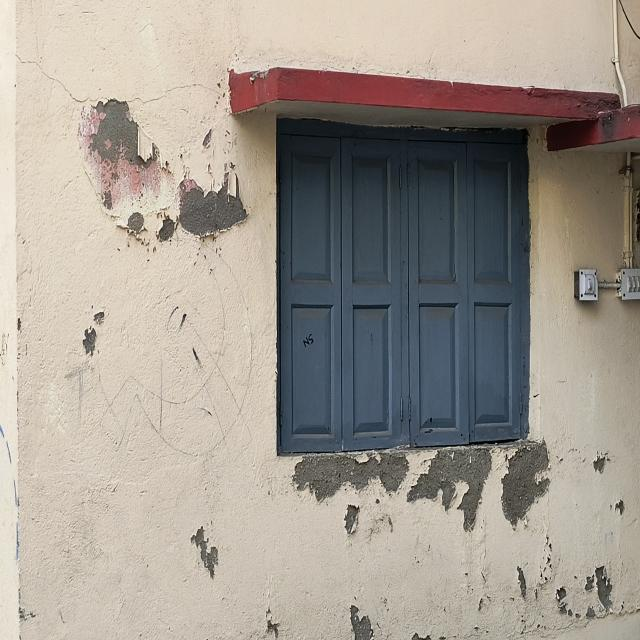Paint Peeling: (408, 448, 491, 532), (292, 453, 408, 501), (91, 100, 160, 166), (501, 441, 550, 527), (179, 180, 247, 236), (192, 526, 221, 584), (114, 209, 150, 254), (555, 585, 598, 621), (82, 311, 106, 360), (153, 206, 176, 246), (350, 605, 373, 640), (595, 566, 612, 611), (516, 567, 528, 607), (593, 451, 609, 474), (614, 499, 624, 515)
pollution -moisture induced blackening: (598, 105, 640, 144)
